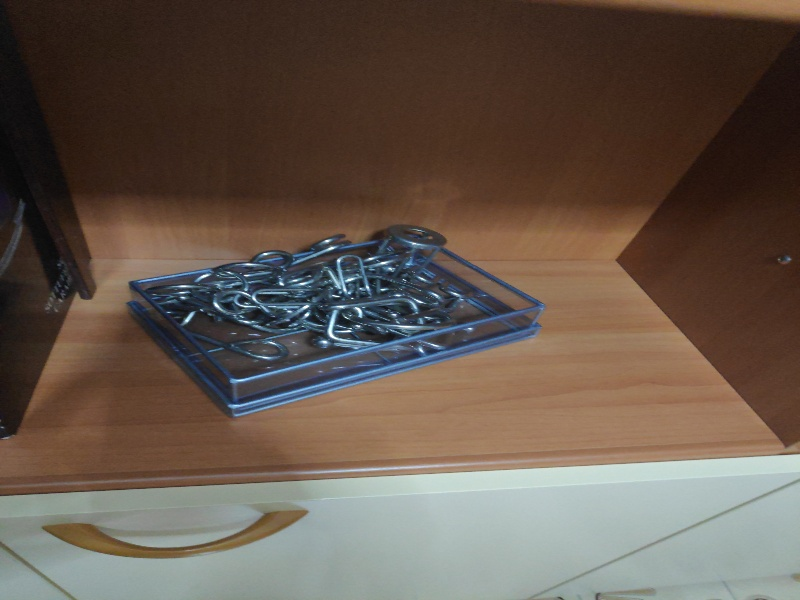games: (124, 219, 547, 424)
